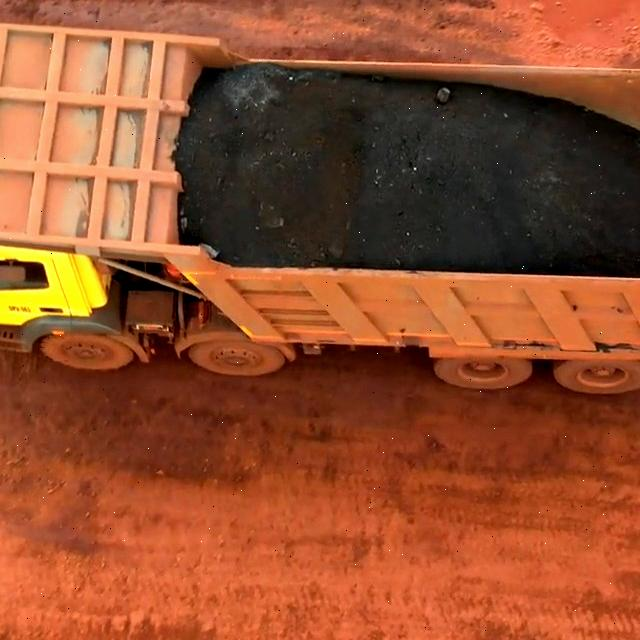Dumper truck: (0, 47, 244, 345), (184, 248, 640, 375)
